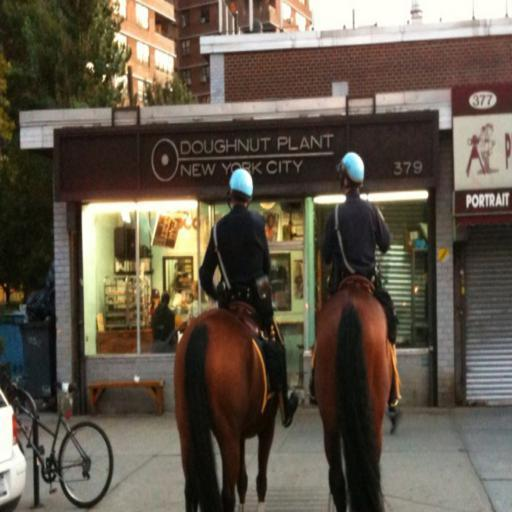horse: (170, 307, 276, 511), (310, 284, 394, 511)
